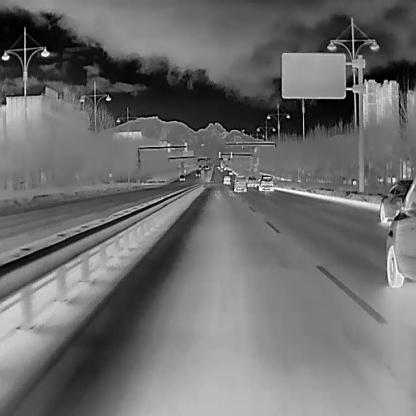car: (386, 180, 415, 288), (379, 177, 415, 222), (258, 174, 274, 192), (246, 173, 257, 188), (178, 173, 185, 181), (194, 169, 199, 177), (204, 164, 209, 169), (197, 164, 201, 169), (228, 169, 232, 174), (223, 165, 227, 170), (216, 162, 220, 167), (219, 168, 223, 172)
truck: (233, 174, 246, 192), (223, 174, 230, 184)
